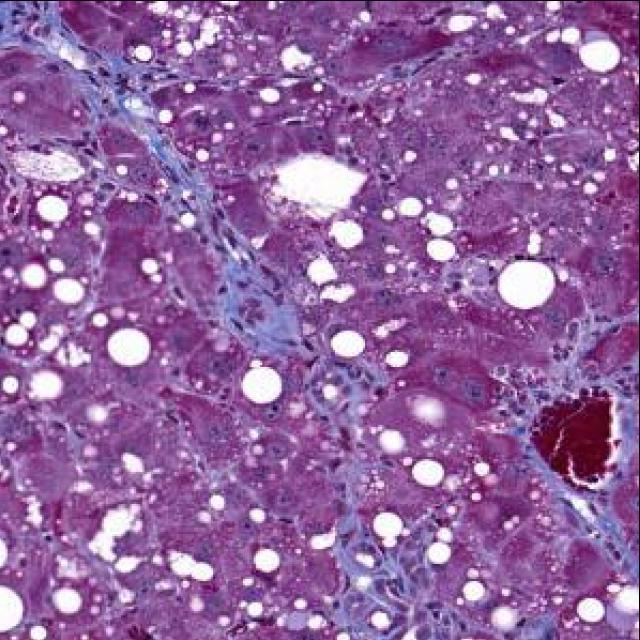fibrosis: (99, 55, 235, 261), (215, 261, 301, 353), (0, 2, 91, 72), (494, 382, 550, 438), (548, 339, 581, 396)
